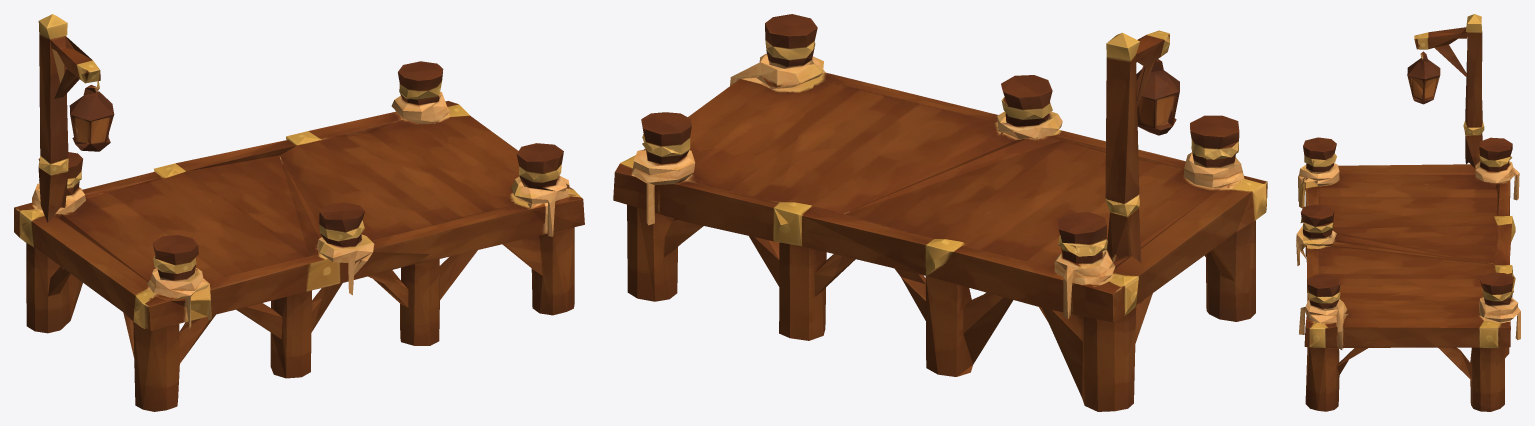
File: TWN_STR_pier_A.glb
3 renders of one model, left to right at view 1: azimuth 30°, elevation 25°; view 2: azimuth 150°, elevation 25°; view 3: azimuth 270°, elevation 25°, orthographic. The views are drawn at different scales.
Parts seen in each view (by area): view 1: Mesh_0; view 2: Mesh_0; view 3: Mesh_0.
Boxes of the visible parts, box(x1,y1,x2,y2) form: Mesh_0: box(14, 14, 584, 411); Mesh_0: box(613, 14, 1267, 411); Mesh_0: box(1296, 14, 1520, 411).
Size of the model in its own units: 1.92 by 1.28 by 1.08.
Materials: 1 (1 with a texture image).
